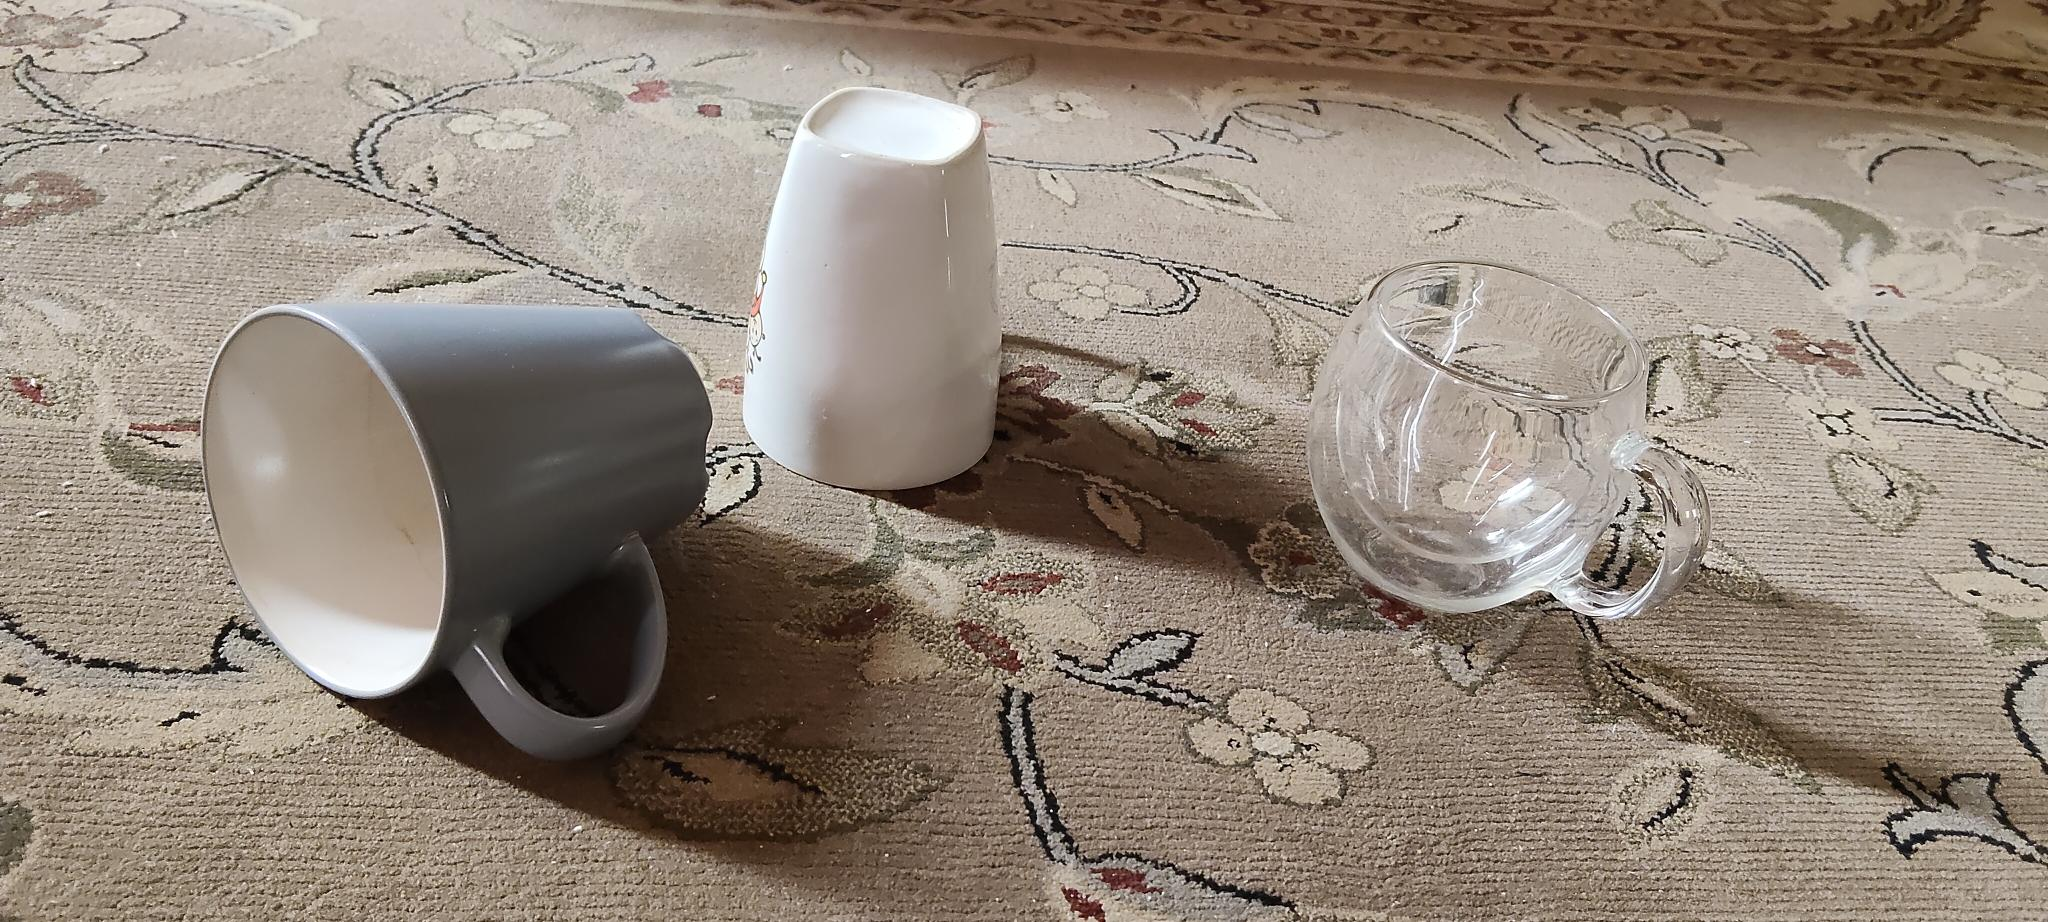Mug: (200, 296, 715, 758), (1300, 259, 1715, 621), (737, 84, 1005, 488)
